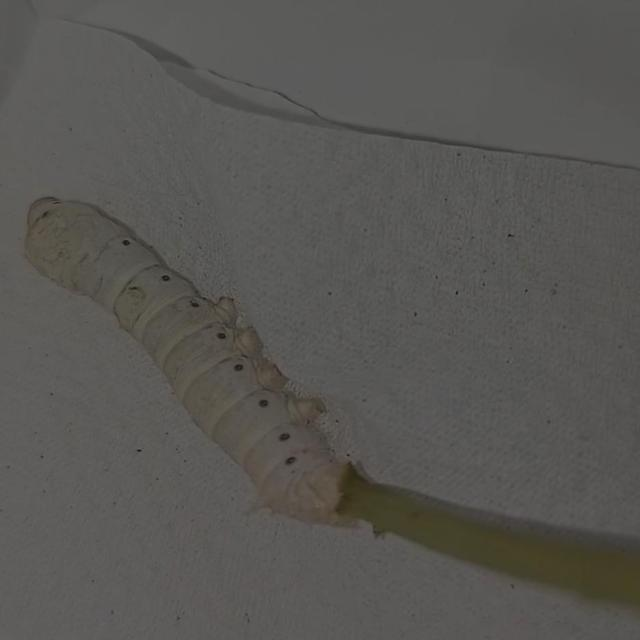Healthy: (17, 184, 358, 536)
